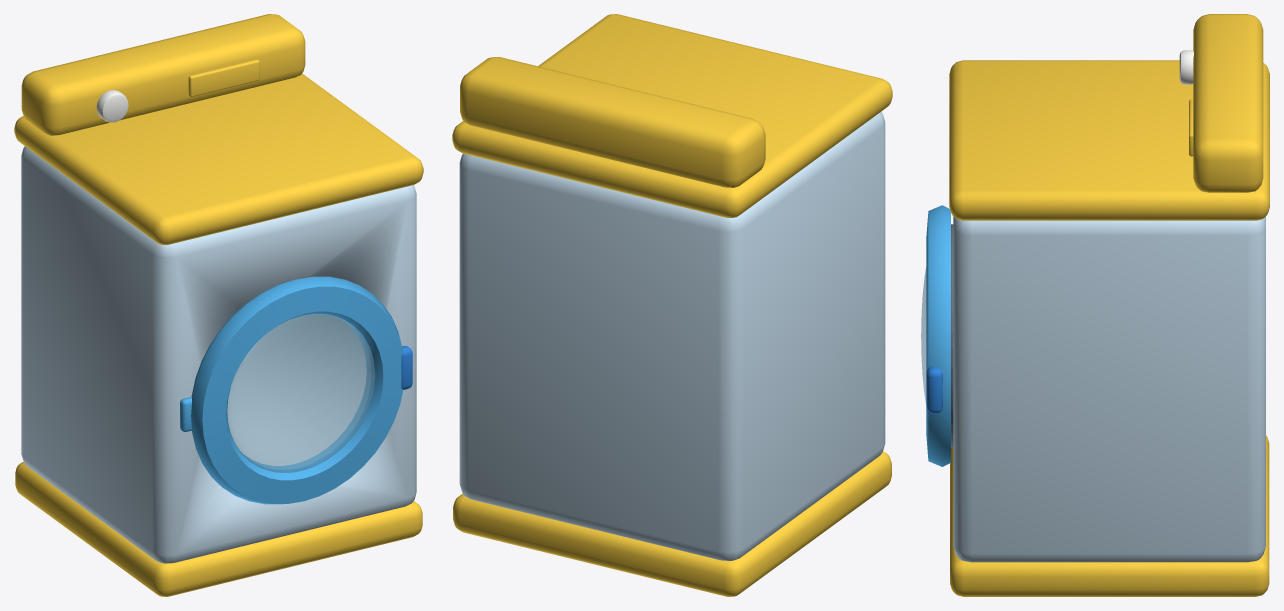
File: maquina_lavar_retro_azul.glb
3 views of the same model, side by side, from view 1: azimuth 30°, elevation 25°; view 2: azimuth 150°, elevation 25°; view 3: azimuth 270°, elevation 25° (orthographic). The views are drawn at different scales.
Visible parts, largest first — view 1: maquina_lavar_retro_azul, porta_maquina; view 2: maquina_lavar_retro_azul; view 3: maquina_lavar_retro_azul, porta_maquina.
Part boxes in pixels (x1=…): maquina_lavar_retro_azul: x1=14, y1=14, x2=423, y2=596; porta_maquina: x1=191, y1=276, x2=412, y2=504; maquina_lavar_retro_azul: x1=452, y1=14, x2=892, y2=596; maquina_lavar_retro_azul: x1=949, y1=14, x2=1269, y2=596; porta_maquina: x1=921, y1=205, x2=950, y2=466.
Size of the model in its own units: 0.614 by 0.93 by 0.6465.
2 materials, 1 textured.
